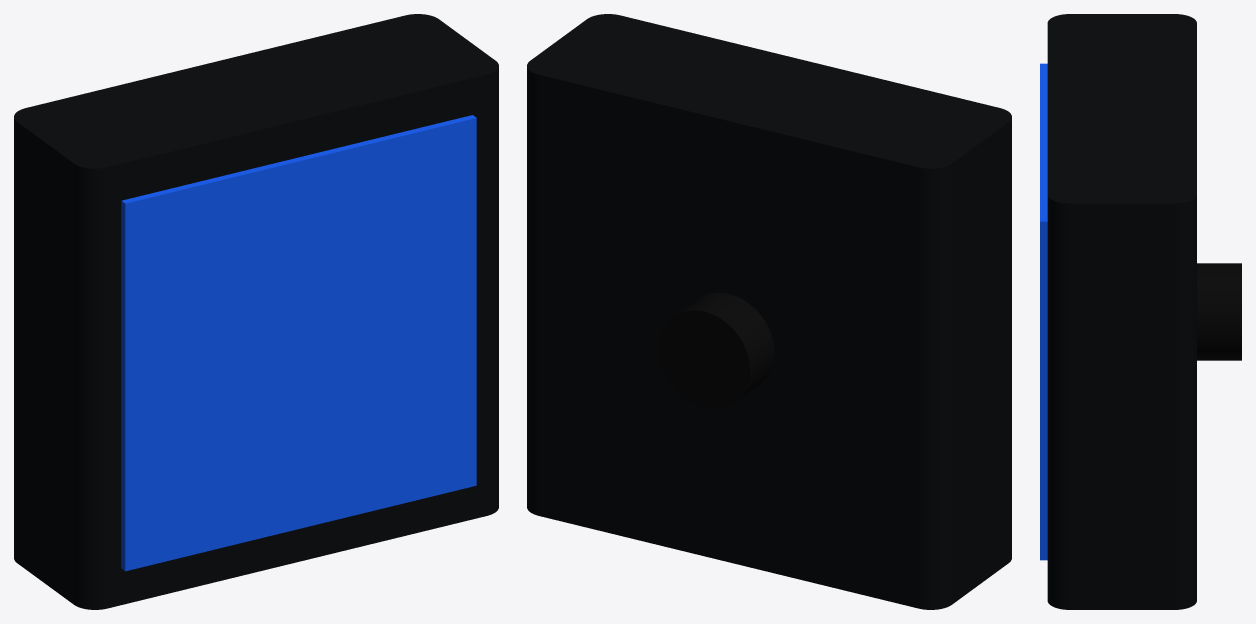
File: rfid_head.glb
3 views of the same model, side by side, from view 1: azimuth 30°, elevation 25°; view 2: azimuth 150°, elevation 25°; view 3: azimuth 270°, elevation 25° (orthographic). The views are drawn at different scales.
Visible parts, largest first — view 1: rfid; view 2: rfid; view 3: rfid.
Part boxes in pixels (x1=…): rfid: x1=14, y1=14, x2=498, y2=609; rfid: x1=527, y1=14, x2=1011, y2=609; rfid: x1=1040, y1=14, x2=1241, y2=609.
Bounding box in the file's own units: 0.06 × 0.06 × 0.027.
